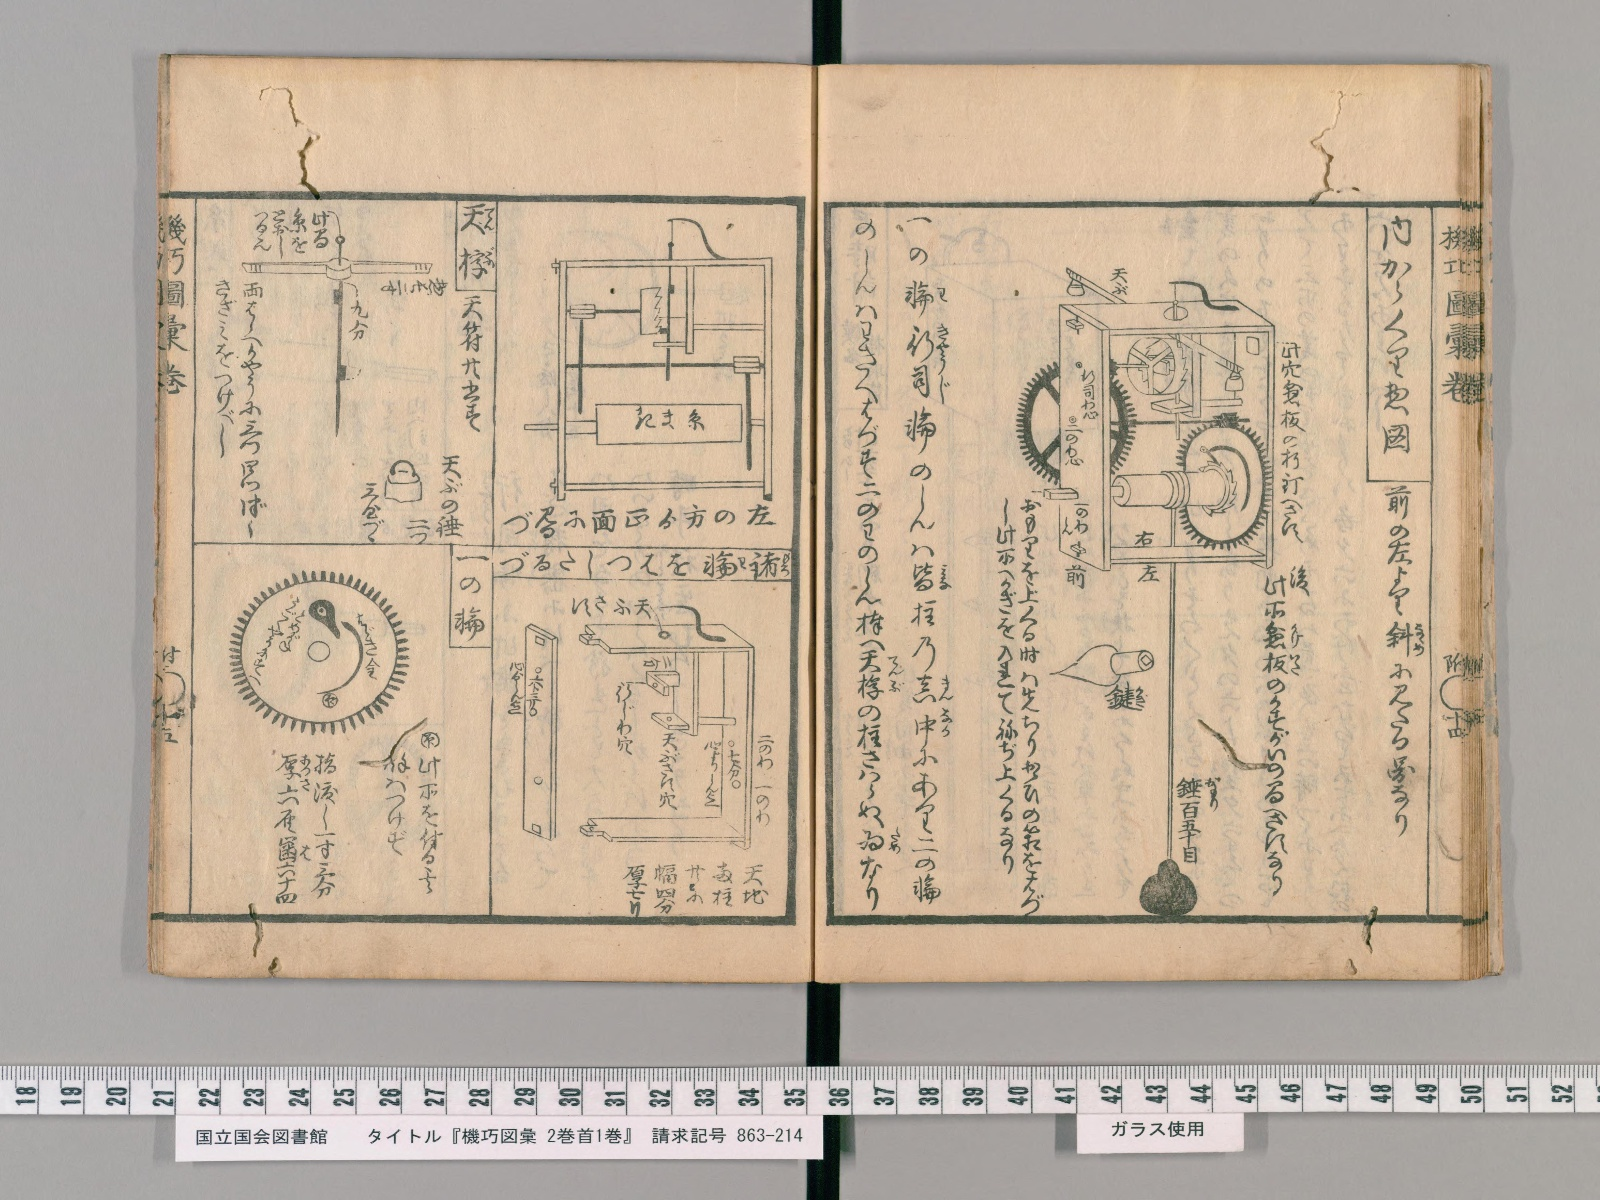1_overall: (150, 57, 1508, 989)
2_handwritten: (239, 233, 435, 437), (853, 216, 889, 913), (905, 213, 939, 908), (1385, 485, 1417, 841), (1019, 495, 1043, 916), (501, 505, 777, 539), (994, 497, 1018, 874), (1262, 574, 1290, 895), (493, 548, 780, 579), (1381, 213, 1414, 459), (239, 279, 266, 538), (1281, 339, 1306, 546), (417, 726, 443, 896), (275, 751, 301, 906), (459, 292, 488, 434), (312, 749, 339, 903), (215, 280, 234, 466), (454, 555, 491, 645), (384, 746, 411, 858), (433, 454, 466, 539), (459, 203, 488, 284), (632, 405, 706, 434), (567, 596, 654, 620), (656, 731, 680, 812), (614, 681, 635, 754), (621, 863, 650, 916), (360, 480, 383, 545), (651, 862, 677, 916), (740, 862, 769, 906), (709, 860, 734, 909), (703, 740, 721, 808), (309, 211, 333, 252), (1104, 681, 1135, 712), (290, 204, 309, 255), (251, 211, 272, 252), (684, 862, 704, 906), (1288, 565, 1311, 599), (272, 211, 289, 258), (404, 517, 431, 542)
4_illustration: (1012, 258, 1281, 916), (522, 216, 777, 504), (522, 603, 753, 852), (223, 568, 413, 736), (1057, 635, 1153, 711), (1141, 867, 1197, 913), (380, 458, 426, 504)
